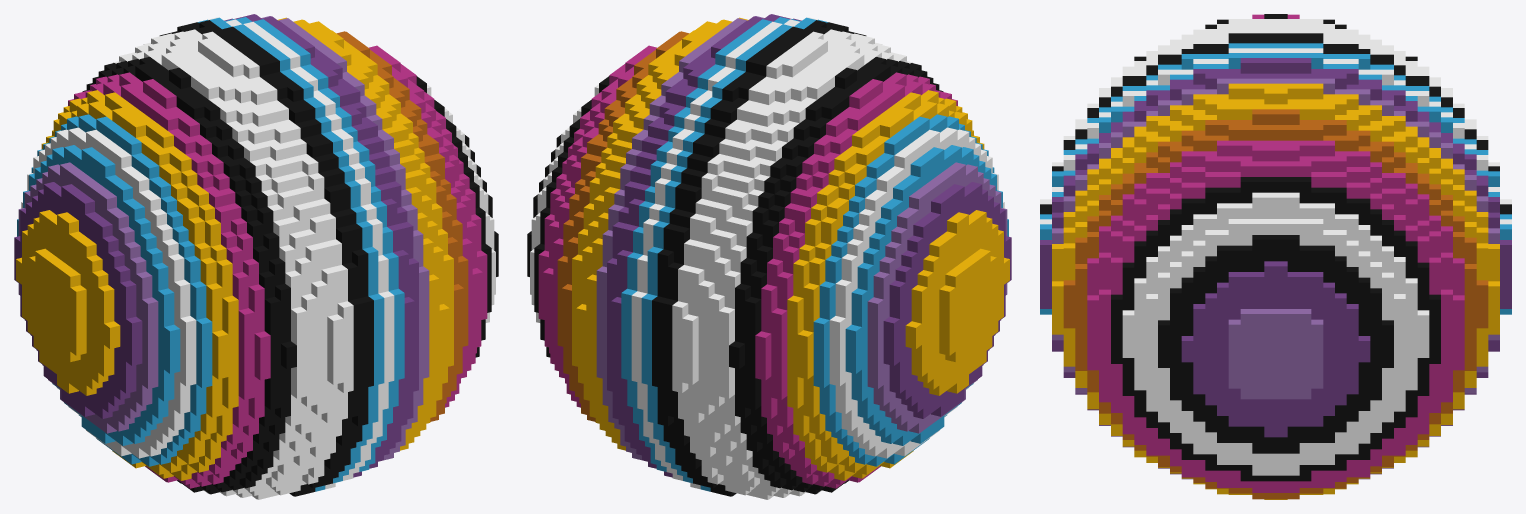
File: модник.obj
3 views of the same model, side by side, from view 1: azimuth 30°, elevation 25°; view 2: azimuth 150°, elevation 25°; view 3: azimuth 270°, elevation 25° (orthographic).
Bounding box in the file's own units: 4 × 4 × 4.
1 material, 1 textured.
